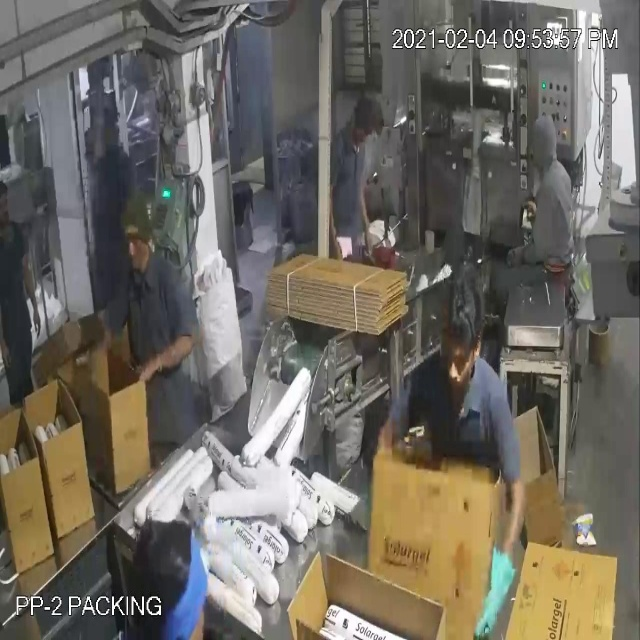Guantes: (474, 532, 525, 640)
Sin_guantes: (17, 230, 56, 365), (128, 320, 205, 384), (75, 313, 135, 370), (348, 171, 375, 270), (320, 176, 344, 282)
